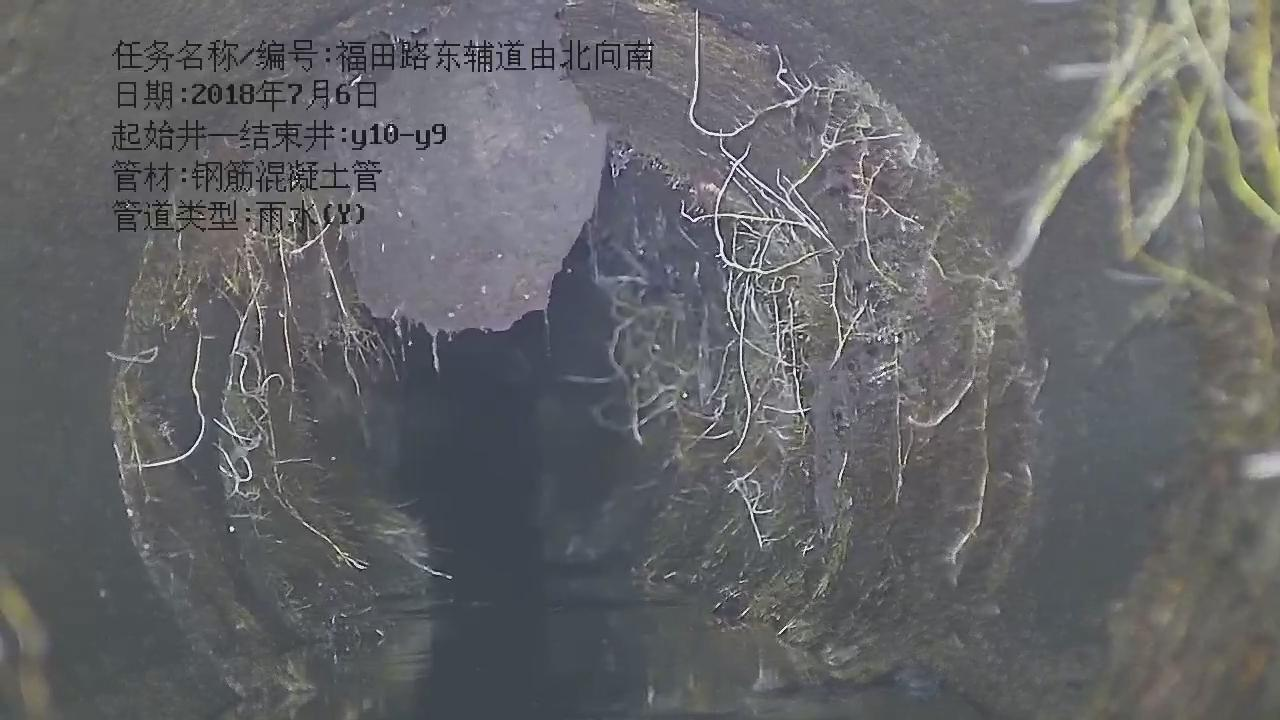SG: (109, 0, 1279, 678)
